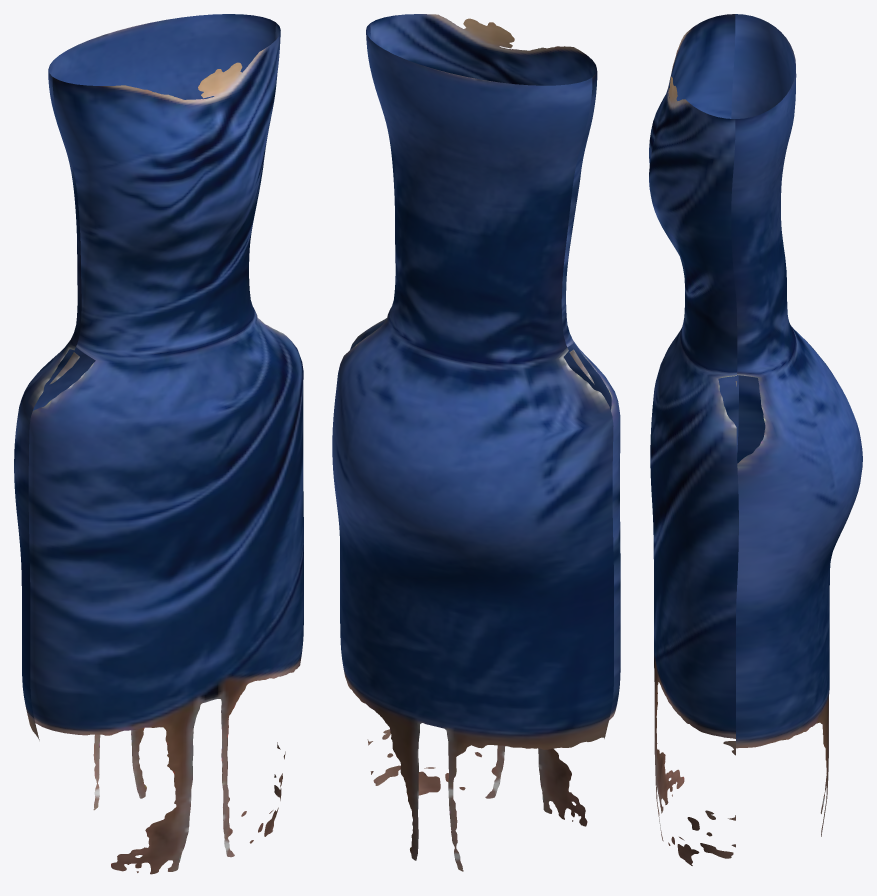
The model's file is prod-ae-cobalt-draped-mini.glb.
3 renders of one model, left to right at view 1: azimuth 30°, elevation 25°; view 2: azimuth 150°, elevation 25°; view 3: azimuth 270°, elevation 25°, orthographic. The views are drawn at different scales.
Parts seen in each view (by area): view 1: prod-ae-cobalt-draped-mini; view 2: prod-ae-cobalt-draped-mini; view 3: prod-ae-cobalt-draped-mini.
Part boxes in pixels (x1,y1,x2,y2): prod-ae-cobalt-draped-mini: (14,14,303,874); prod-ae-cobalt-draped-mini: (332,14,620,871); prod-ae-cobalt-draped-mini: (649,14,862,865).
Bounding box in the file's own units: 0.2922 × 0.8297 × 0.21.
1 material, 1 textured.
